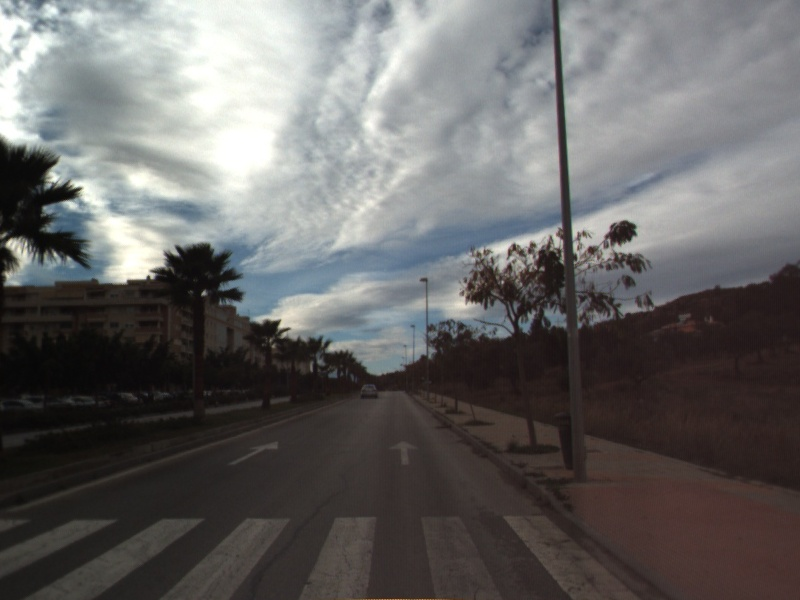STRAIGHT: (225, 439, 280, 467), (387, 438, 421, 467)
